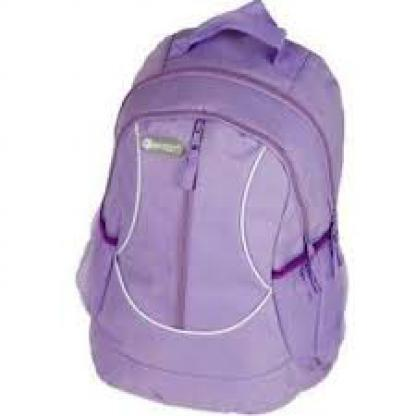morral: (61, 2, 386, 414)
